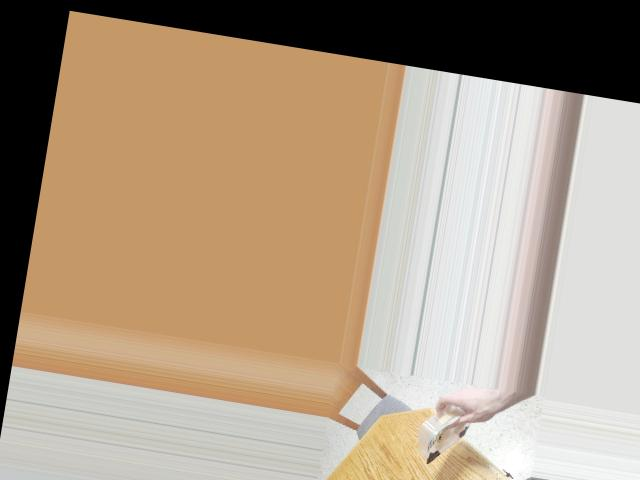cheese: (401, 396, 481, 463)
